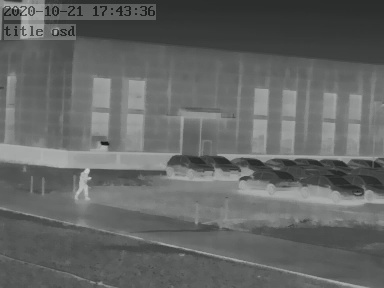person: (76, 165, 91, 199)
vehicle: (305, 173, 360, 200), (237, 169, 302, 190), (164, 152, 214, 178), (348, 173, 383, 200), (204, 153, 242, 177), (232, 155, 270, 172), (261, 155, 296, 170), (347, 155, 381, 170), (316, 155, 348, 170), (296, 155, 326, 169)
